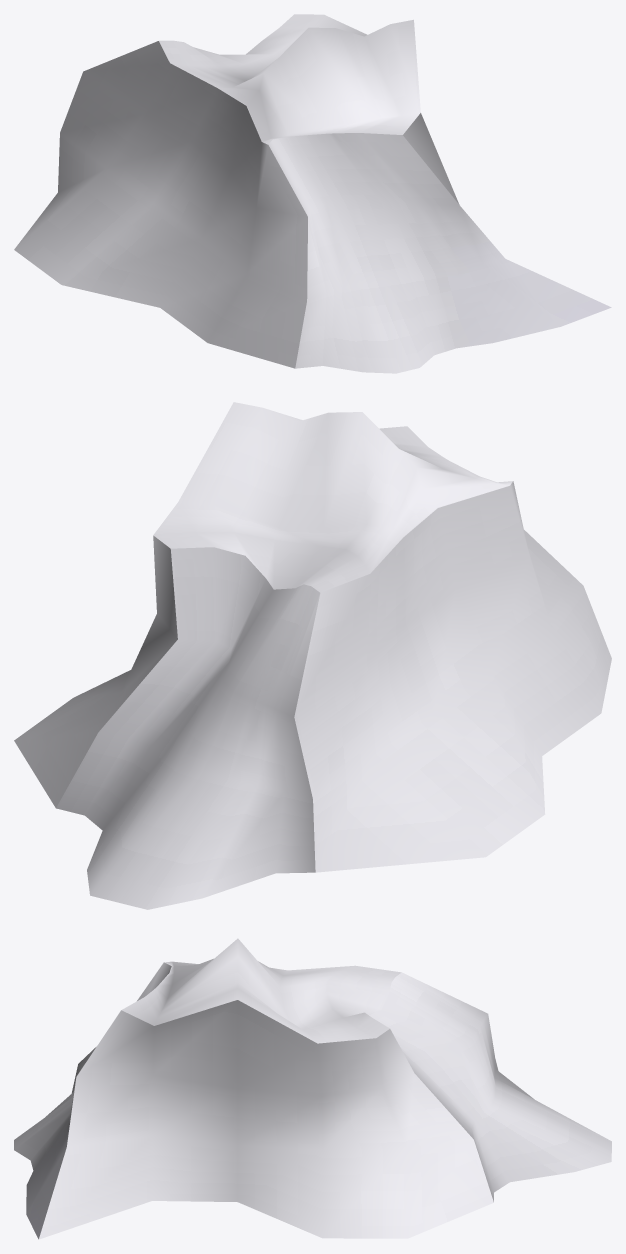
The model's file is SmallIce_F.fbx.
3 renders of one model, top to bottom at view 1: azimuth 30°, elevation 25°; view 2: azimuth 150°, elevation 25°; view 3: azimuth 270°, elevation 25°, orthographic. The views are drawn at different scales.
Parts seen in each view (by area): view 1: pCube4; view 2: pCube4; view 3: pCube4.
Boxes of the visible parts, x1,y1,x2,y2 form: pCube4: (14, 14, 611, 373); pCube4: (14, 402, 611, 909); pCube4: (14, 938, 611, 1239).
Size of the model in its own units: 6.27 by 3.76 by 9.35.
1 material, 1 textured.
